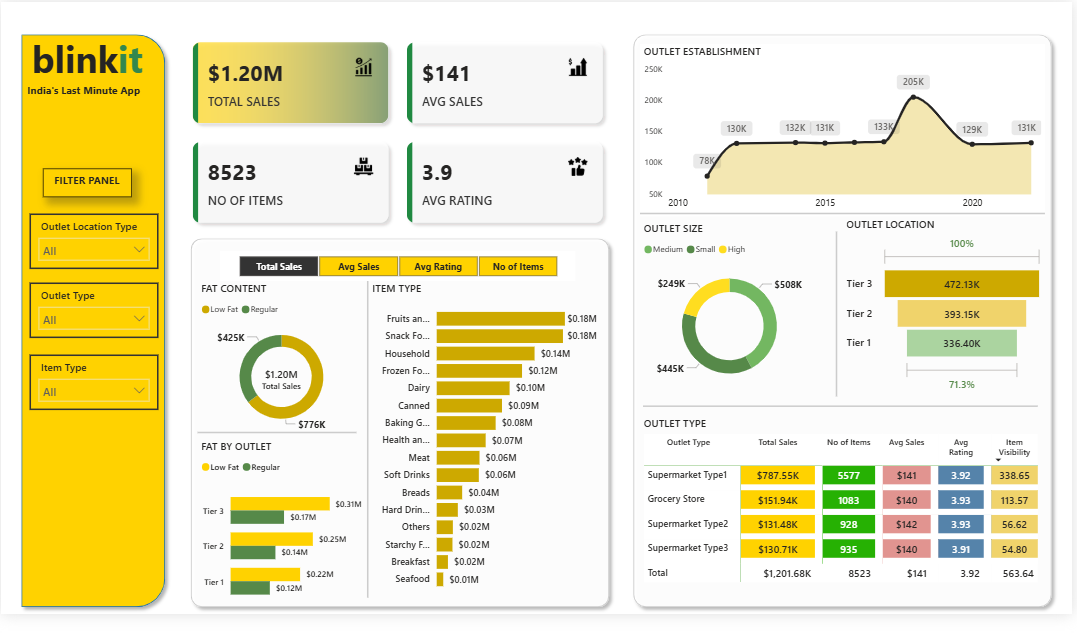

Layout of this report page (visuals, bound fields, positions):
{"tool":"powerbi","page":{"name":"Page 1","canvas":[1400,800],"ordinal":0},"visuals":[{"type":"shape","box":[17.6,33.3,205.9,766.7],"z":0},{"type":"textbox","box":[17.6,35.3,190.2,80.4],"z":1000},{"type":"textbox","box":[29.4,100,168.6,31.4],"z":2000},{"type":"cardVisual","fields":{"Data":["BlinkIT Grocery Data.Total Sales","BlinkIT Grocery Data.Avg Sales","BlinkIT Grocery Data.No of Items","BlinkIT Grocery Data.Avg Rating"]},"box":[233.3,35.3,570.6,270.6],"z":3000},{"type":"shape","box":[239.2,300,564.7,500],"z":4000},{"type":"donutChart","title":"FAT CONTENT","fields":{"Y":["BlinkIT Grocery Data.Total Sales"],"Category":["BlinkIT Grocery Data.Item Fat Content"]},"box":[256.9,364.7,219.6,205.9],"z":5000},{"type":"slicer","fields":{"Values":["Metrics.Metrics"]},"box":[286.3,325.5,464.7,39.2],"z":6000},{"type":"cardVisual","fields":{"Data":["BlinkIT Grocery Data.Total Sales"]},"box":[321.6,456.9,90.2,72.5],"z":7000},{"type":"clusteredBarChart","title":"FAT BY OUTLET","fields":{"Y":["BlinkIT Grocery Data.Total Sales"],"Category":["BlinkIT Grocery Data.Outlet Location Type"],"Series":["BlinkIT Grocery Data.Item Fat Content"]},"box":[256.9,570.6,219.6,229.4],"z":8000},{"type":"shape","box":[256.9,541.2,207.8,43.1],"z":9000},{"type":"shape","box":[464.7,364.7,29.4,413.7],"z":10000},{"type":"barChart","title":"ITEM TYPE","fields":{"Y":["BlinkIT Grocery Data.Total Sales"],"Category":["BlinkIT Grocery Data.Item Type"]},"box":[480.4,364.7,303.9,413.7],"z":11000},{"type":"shape","box":[817.6,33.3,564.7,766.7],"z":12000},{"type":"lineChart","title":"OUTLET ESTABLISHMENT","fields":{"Category":["BlinkIT Grocery Data.Outlet Establishment Year"],"Y":["Sum(BlinkIT Grocery Data.Sales)"]},"box":[835.3,54.9,529.4,225.5],"z":13000},{"type":"shape","box":[835.3,272.5,529.4,7.8],"z":14000},{"type":"donutChart","title":"OUTLET SIZE","fields":{"Y":["BlinkIT Grocery Data.Total Sales"],"Category":["BlinkIT Grocery Data.Outlet Size"]},"box":[835.3,286.3,233.3,229.4],"z":15000},{"type":"shape","box":[1084.3,300,15.7,215.7],"z":16000},{"type":"funnel","title":"OUTLET LOCATION","fields":{"Y":["Sum(BlinkIT Grocery Data.Sales)"],"Category":["BlinkIT Grocery Data.Outlet Location Type"]},"box":[1100,280.4,266.7,235.3],"z":17000},{"type":"shape","box":[839.2,515.7,515.7,25.5],"z":18000},{"type":"pivotTable","title":"OUTLET TYPE","fields":{"Values":["BlinkIT Grocery Data.Total Sales","BlinkIT Grocery Data.No of Items","BlinkIT Grocery Data.Avg Sales","BlinkIT Grocery Data.Avg Rating","Sum(BlinkIT Grocery Data.Item Visibility)"],"Rows":["BlinkIT Grocery Data.Outlet Type"]},"box":[835.3,541.2,525.5,258.8],"z":19000},{"type":"slicer","fields":{"Values":["BlinkIT Grocery Data.Outlet Location Type"]},"box":[37.3,276.5,168.6,72.5],"z":20000},{"type":"slicer","fields":{"Values":["BlinkIT Grocery Data.Outlet Type"]},"box":[37.3,366.7,168.6,72.5],"z":21000},{"type":"slicer","fields":{"Values":["BlinkIT Grocery Data.Item Type"]},"box":[37.3,460.8,168.6,72.5],"z":22000},{"type":"textbox","box":[54.9,217.6,115.7,37.3],"z":23000},{"type":"FlowVisual_C29F1DCC_81F5_4973_94AD_0517D44CC06A","box":[1329.4,0,70.6,15.7],"z":23001}]}

Visuals, with their boxes in screenshot pixels (x1, y1, x2, y2), scaled from the page's 1400x800 canvas onto the 1077x633 screenshot:
shape: l=14, t=26, r=172, b=632
textbox: l=14, t=28, r=160, b=92
textbox: l=23, t=79, r=152, b=104
cardVisual - BlinkIT Grocery Data.Total Sales x BlinkIT Grocery Data.Avg Sales: l=179, t=28, r=618, b=242
shape: l=184, t=237, r=618, b=632
"FAT CONTENT" donutChart: l=198, t=289, r=367, b=451
slicer - Metrics.Metrics: l=220, t=258, r=578, b=289
cardVisual - BlinkIT Grocery Data.Total Sales: l=247, t=362, r=317, b=419
"FAT BY OUTLET" clusteredBarChart: l=198, t=451, r=367, b=632
shape: l=198, t=428, r=357, b=462
shape: l=357, t=289, r=380, b=616
"ITEM TYPE" barChart: l=370, t=289, r=603, b=616
shape: l=629, t=26, r=1063, b=632
"OUTLET ESTABLISHMENT" lineChart: l=643, t=43, r=1050, b=222
shape: l=643, t=216, r=1050, b=222
"OUTLET SIZE" donutChart: l=643, t=227, r=822, b=408
shape: l=834, t=237, r=846, b=408
"OUTLET LOCATION" funnel: l=846, t=222, r=1051, b=408
shape: l=646, t=408, r=1042, b=428
"OUTLET TYPE" pivotTable: l=643, t=428, r=1047, b=632
slicer - BlinkIT Grocery Data.Outlet Location Type: l=29, t=219, r=158, b=276
slicer - BlinkIT Grocery Data.Outlet Type: l=29, t=290, r=158, b=348
slicer - BlinkIT Grocery Data.Item Type: l=29, t=365, r=158, b=422
textbox: l=42, t=172, r=131, b=202
FlowVisual_C29F1DCC_81F5_4973_94AD_0517D44CC06A: l=1023, t=0, r=1076, b=12
